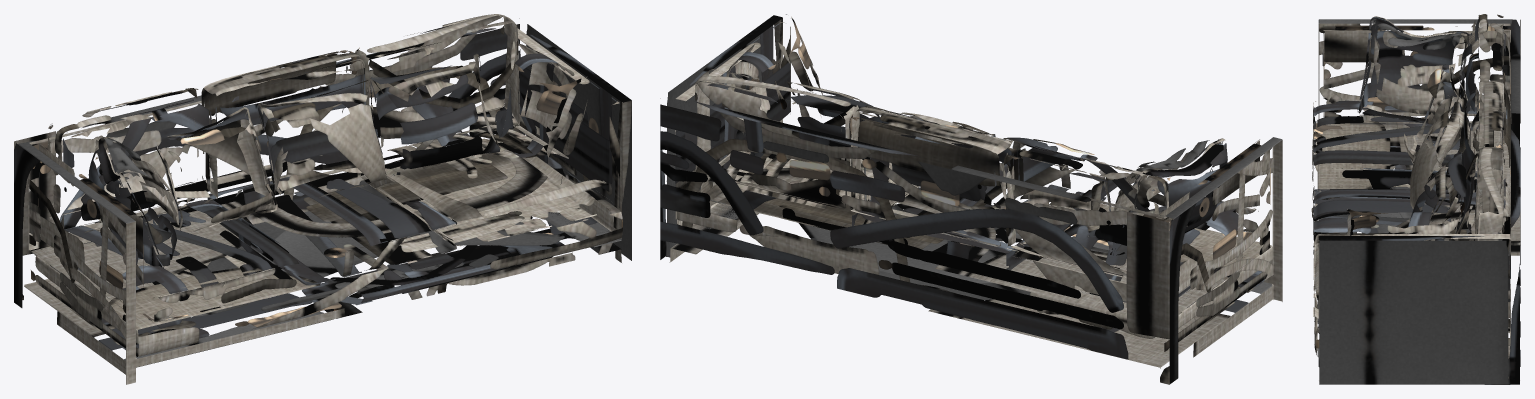
The picture shows the model from 3 angles, left to right: view 1: azimuth 30°, elevation 25°; view 2: azimuth 150°, elevation 25°; view 3: azimuth 270°, elevation 25°; orthographic projection. The views are drawn at different scales.
Parts seen in each view (by area): view 1: solid_001, solid_005, solid_004, solid_002, solid_003; view 2: solid_005, solid_001, solid_003, solid_002, solid_004; view 3: solid_001, solid_005, solid_004, solid_003, solid_002.
Boxes of the visible parts, x1=… form: solid_001: x1=28, y1=14, x2=622, y2=357; solid_005: x1=14, y1=18, x2=631, y2=384; solid_004: x1=256, y1=80, x2=386, y2=205; solid_002: x1=370, y1=53, x2=500, y2=175; solid_003: x1=156, y1=107, x2=277, y2=232; solid_005: x1=660, y1=15, x2=1282, y2=384; solid_001: x1=675, y1=14, x2=1272, y2=351; solid_003: x1=1003, y1=137, x2=1110, y2=225; solid_002: x1=774, y1=81, x2=889, y2=181; solid_004: x1=880, y1=112, x2=1007, y2=209; solid_001: x1=1311, y1=14, x2=1511, y2=357; solid_005: x1=1318, y1=19, x2=1520, y2=384; solid_004: x1=1410, y1=101, x2=1470, y2=222; solid_003: x1=1404, y1=64, x2=1467, y2=177; solid_002: x1=1407, y1=153, x2=1471, y2=240.
Bounding box in the file's own units: 2 × 0.6967 × 0.7994.
